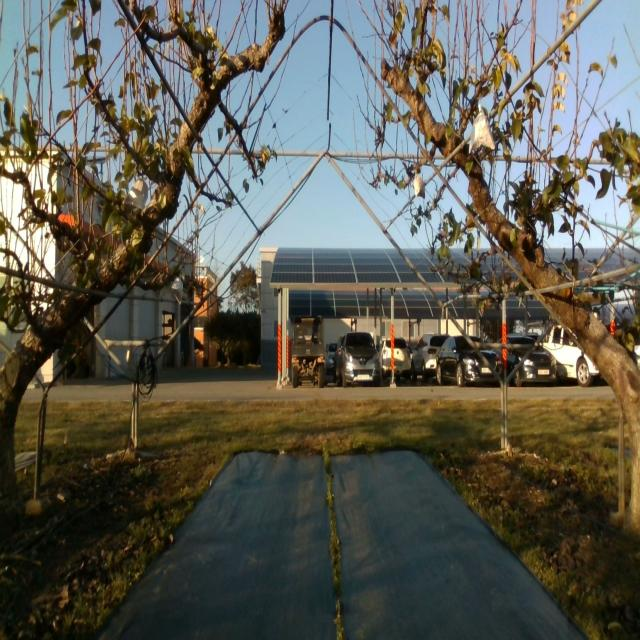pearbags: (468, 104, 496, 154), (122, 176, 148, 210), (414, 169, 425, 199), (172, 277, 183, 306)
